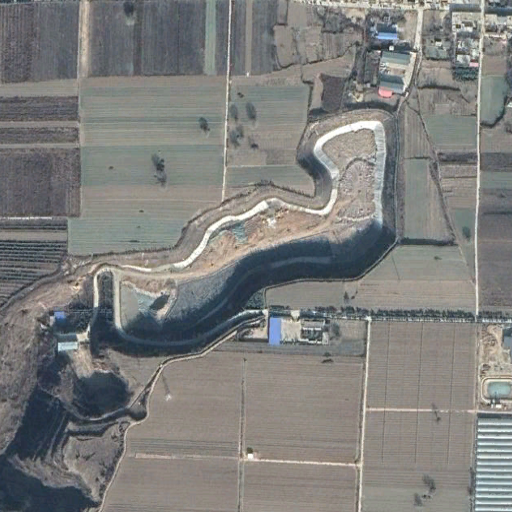lf: (113, 119, 387, 344)
